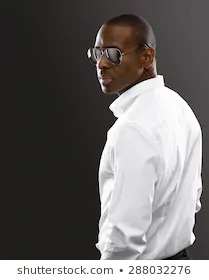F_shirt: (95, 76, 204, 268)
